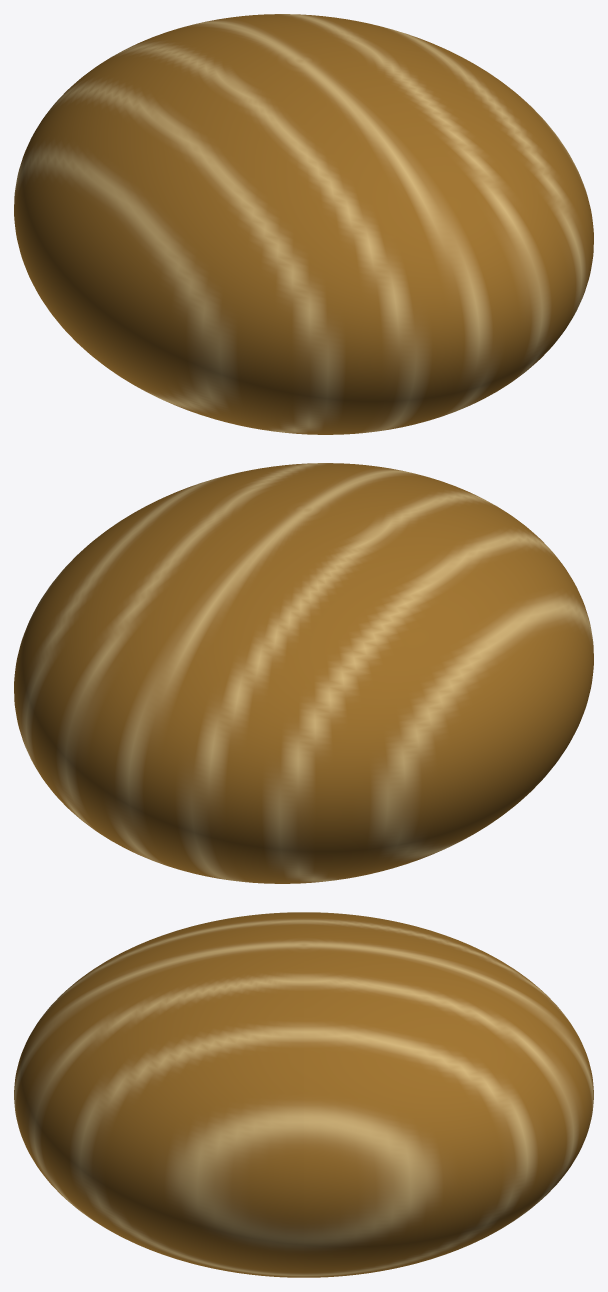
The model's file is tiger-eye.glb.
The picture shows the model from 3 angles, top to bottom: view 1: azimuth 30°, elevation 25°; view 2: azimuth 150°, elevation 25°; view 3: azimuth 270°, elevation 25°; orthographic projection. The views are drawn at different scales.
Visible parts, largest first — view 1: tiger-eye; view 2: tiger-eye; view 3: tiger-eye.
Part boxes in pixels (box(x1,y1,x2,y2)): tiger-eye: box(14, 14, 593, 434); tiger-eye: box(14, 463, 593, 883); tiger-eye: box(14, 912, 593, 1277).
Bounding box in the file's own units: 2.17 × 1.41 × 2.5.
